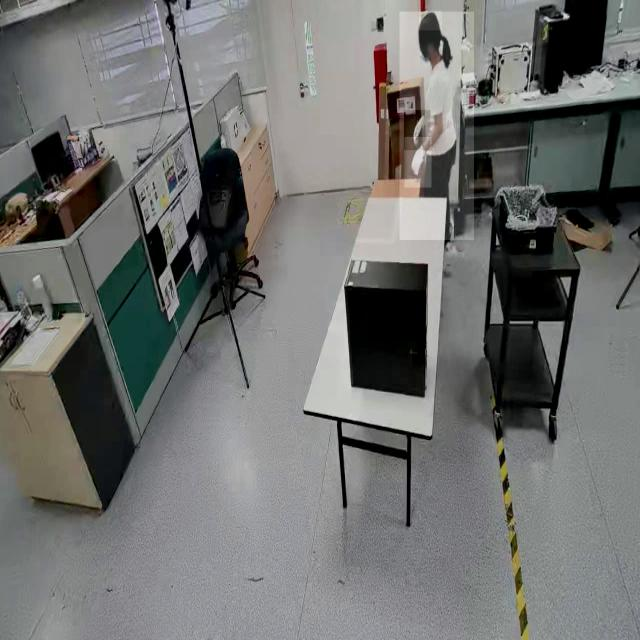hand_glove: (404, 137, 432, 188), (404, 110, 431, 150)
head_nohelmet: (418, 11, 442, 31)
person: (399, 11, 474, 241)
